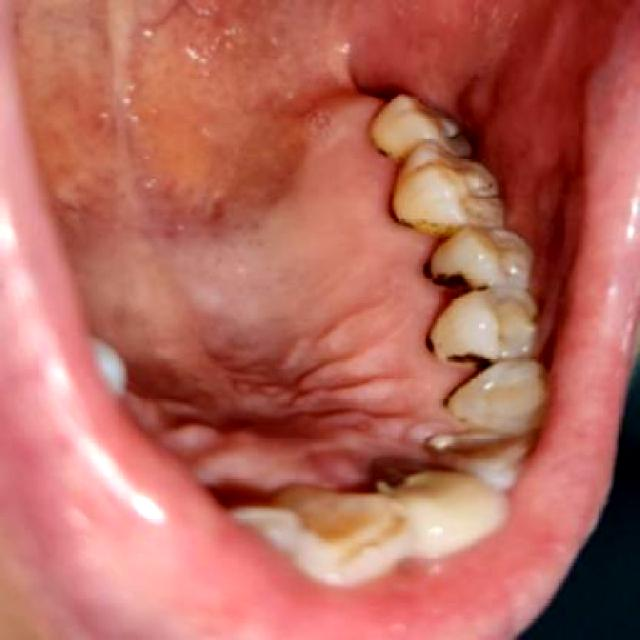Plaque: (435, 117, 472, 152), (462, 174, 500, 206), (494, 257, 523, 282)
